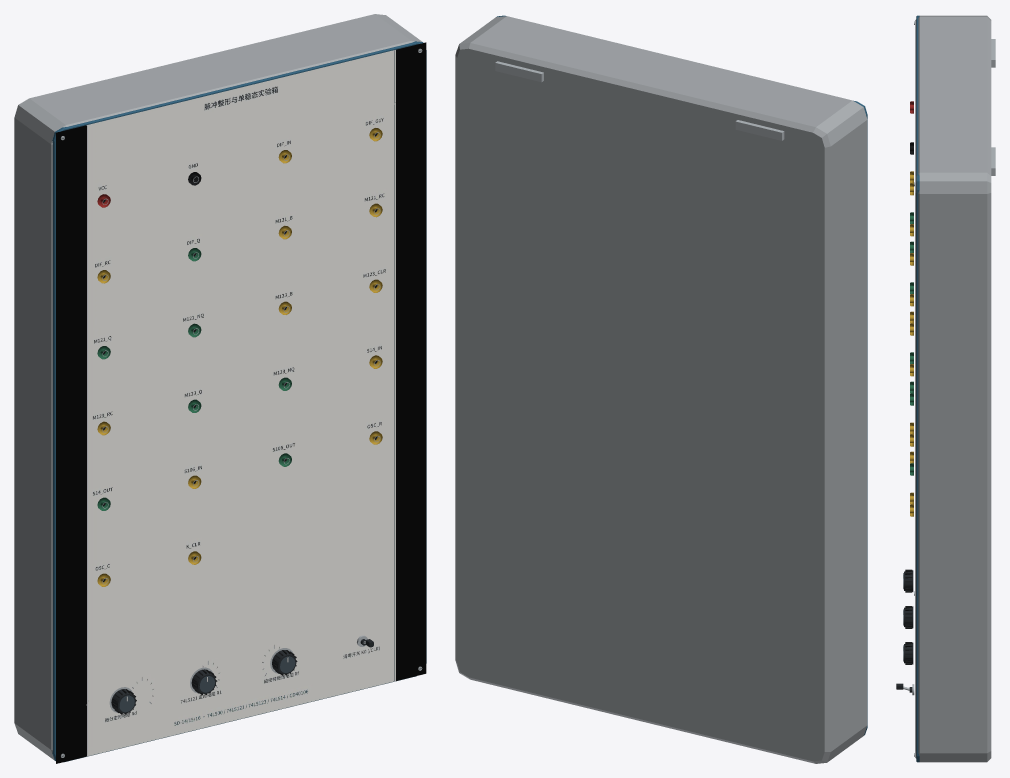
The model's file is module.glb.
3 views of the same model, side by side, from view 1: azimuth 30°, elevation 25°; view 2: azimuth 150°, elevation 25°; view 3: azimuth 270°, elevation 25° (orthographic). The views are drawn at different scales.
Parts seen in each view (by area): view 1: PANEL_silkscreen, STATIC_paint, STATIC_metal; view 2: STATIC_paint, STATIC_metal; view 3: STATIC_paint, STATIC_metal, MOVING_R_DIF_paint, MOVING_R_121_paint, MOVING_R_OSC_paint.
Boxes of the visible parts, x1=… form: PANEL_silkscreen: x1=56, y1=42, x2=426, y2=763; STATIC_paint: x1=14, y1=14, x2=426, y2=762; STATIC_metal: x1=60, y1=48, x2=422, y2=757; STATIC_paint: x1=455, y1=15, x2=867, y2=763; STATIC_metal: x1=495, y1=61, x2=784, y2=140; STATIC_paint: x1=910, y1=15, x2=991, y2=762; STATIC_metal: x1=912, y1=21, x2=995, y2=756; MOVING_R_DIF_paint: x1=903, y1=569, x2=913, y2=592; MOVING_R_121_paint: x1=903, y1=606, x2=913, y2=628; MOVING_R_OSC_paint: x1=903, y1=642, x2=913, y2=664.
Bounding box in the file's own units: 0.29 × 0.47 × 0.0718.
7 materials, 1 textured.
